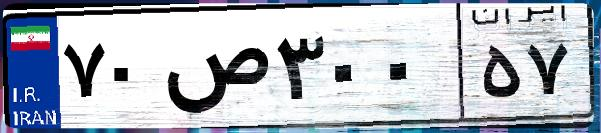0: (385, 28, 445, 110), (330, 28, 385, 110), (110, 28, 158, 98)
3: (270, 28, 330, 110)
5: (475, 38, 525, 113)
7: (57, 26, 110, 100), (525, 38, 570, 115)
ص: (158, 20, 270, 120)
